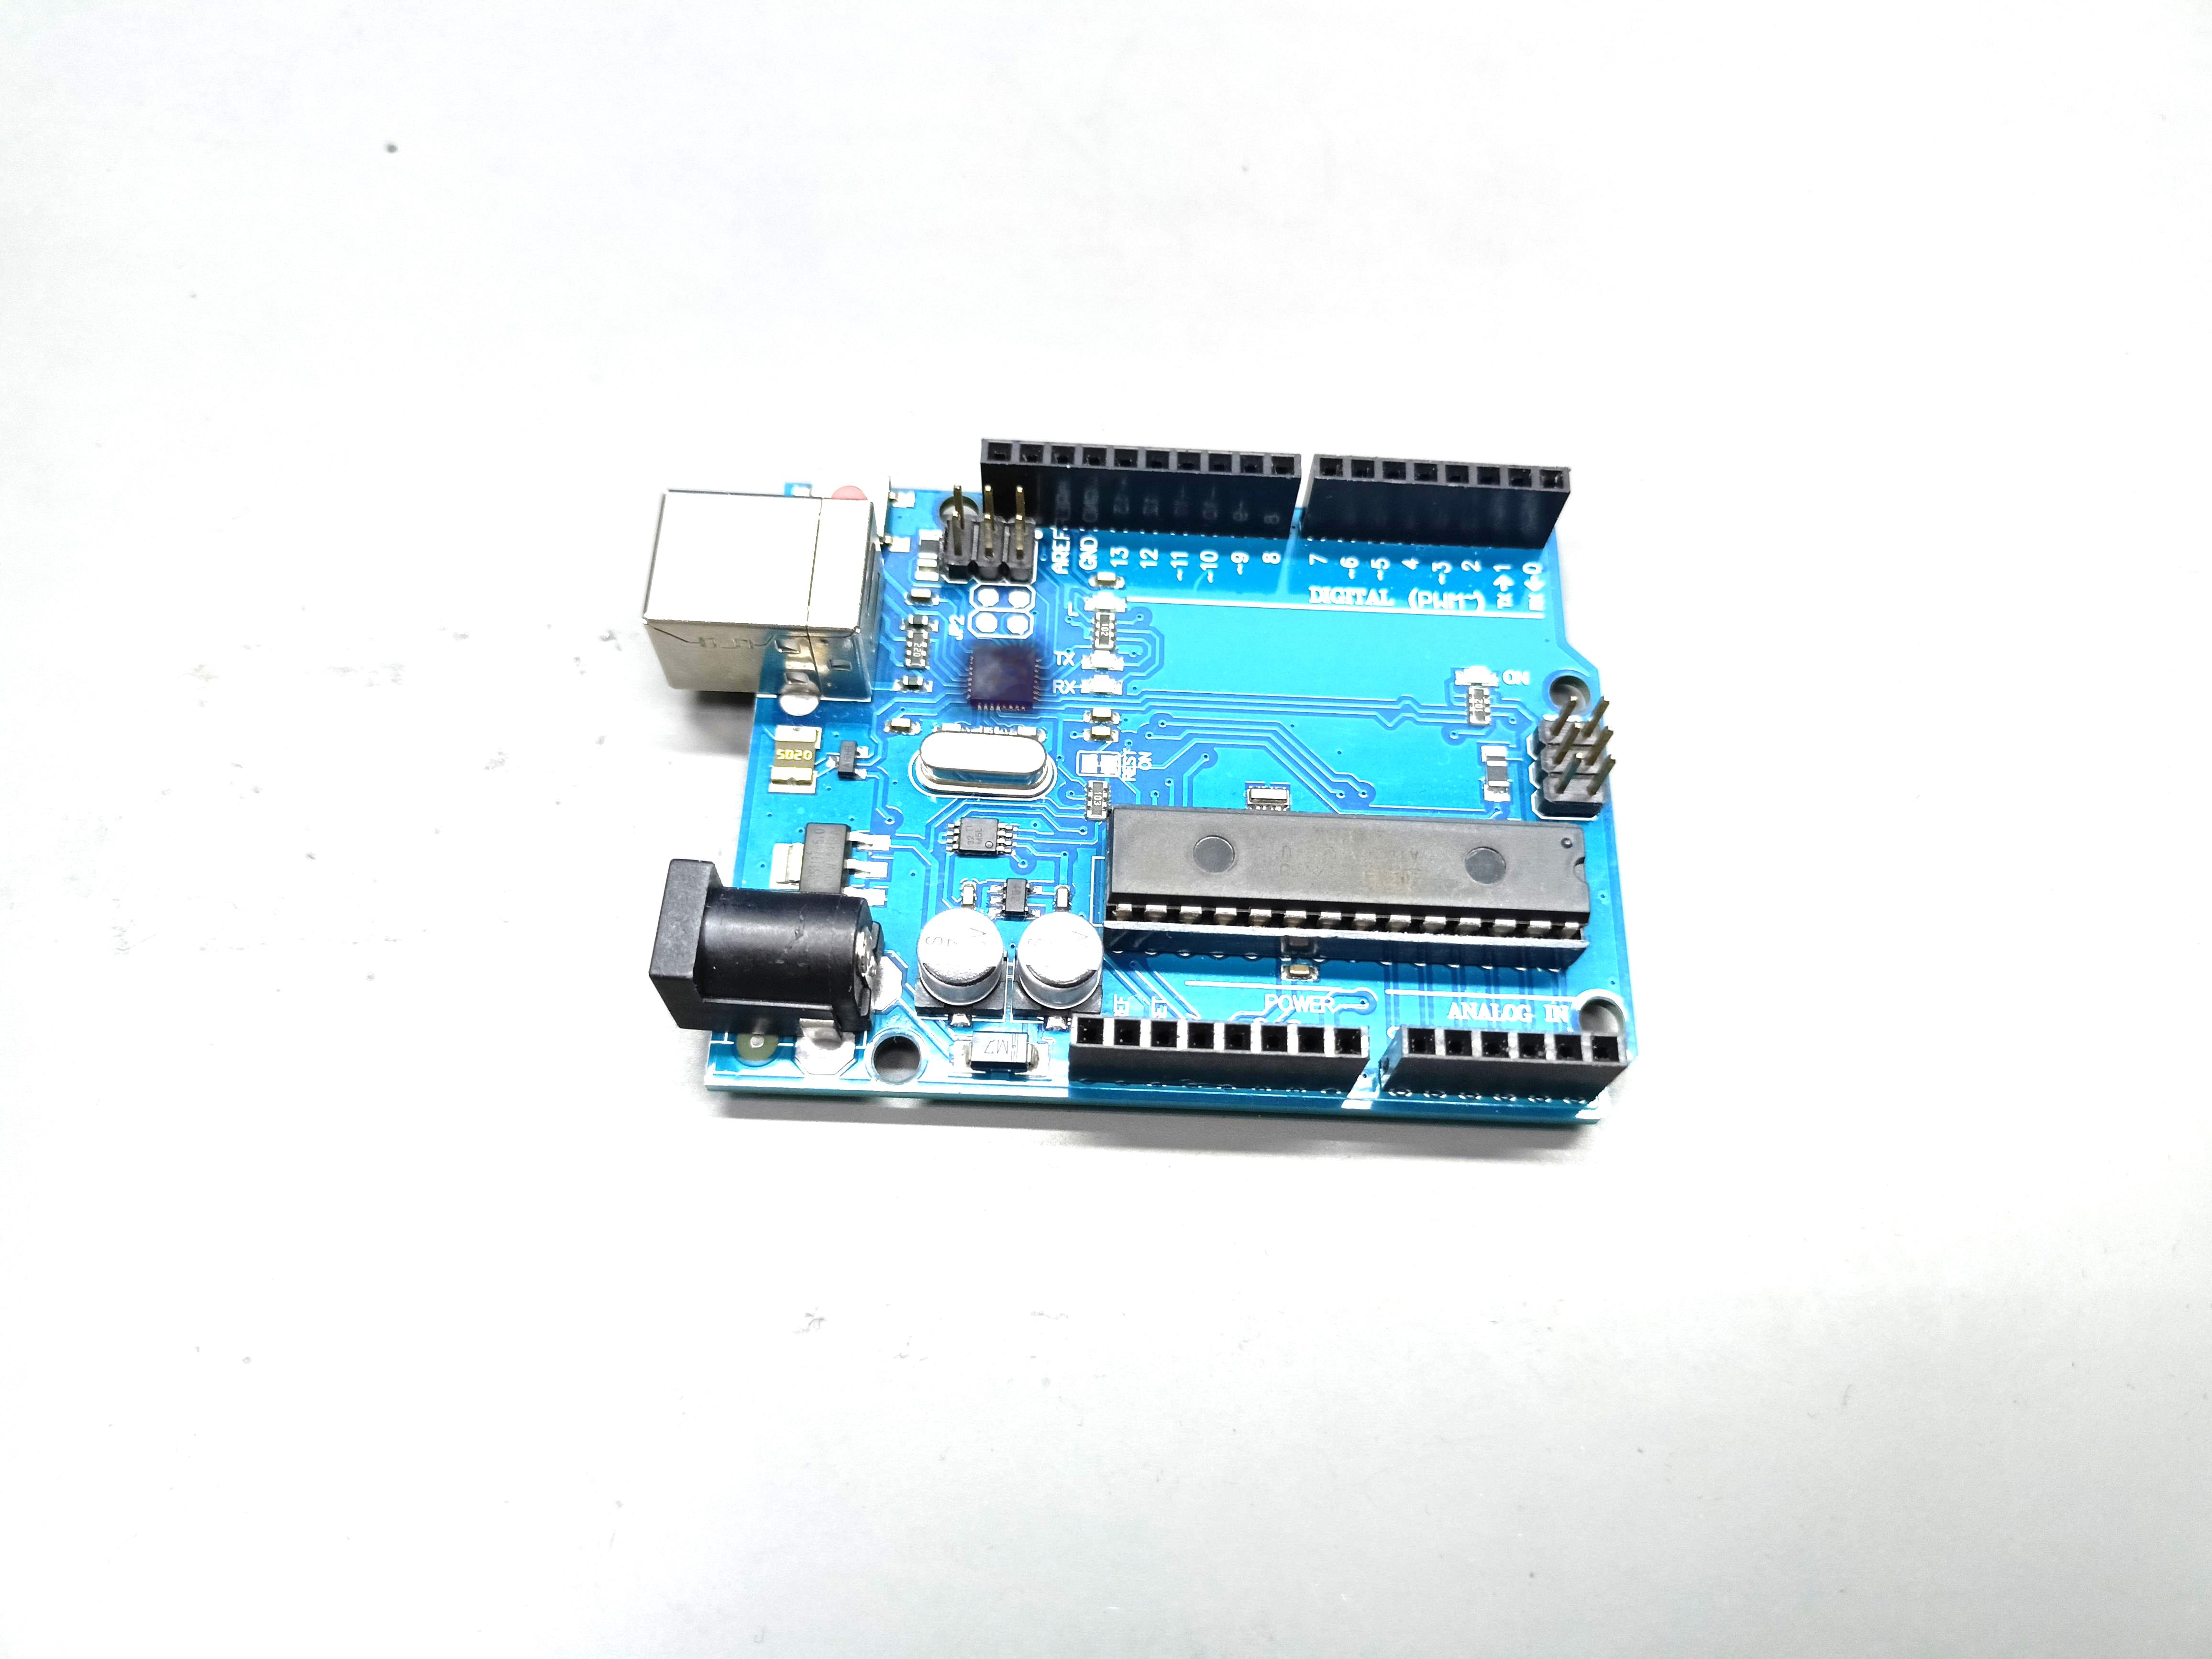ATmega328 chip: (1103, 803, 1590, 969)
Arduino board: (641, 439, 1637, 1124)
Overheat: (937, 624, 1075, 723)
USB: (641, 490, 885, 699)
capacitor: (914, 908, 1008, 1016), (1012, 911, 1104, 1018)
pins: (981, 439, 1301, 538), (1299, 453, 1571, 549), (1068, 1012, 1371, 1093), (1379, 1025, 1629, 1101)
resistor: (906, 629, 928, 669), (1087, 781, 1108, 821), (1468, 688, 1489, 725), (1096, 613, 1115, 650)
